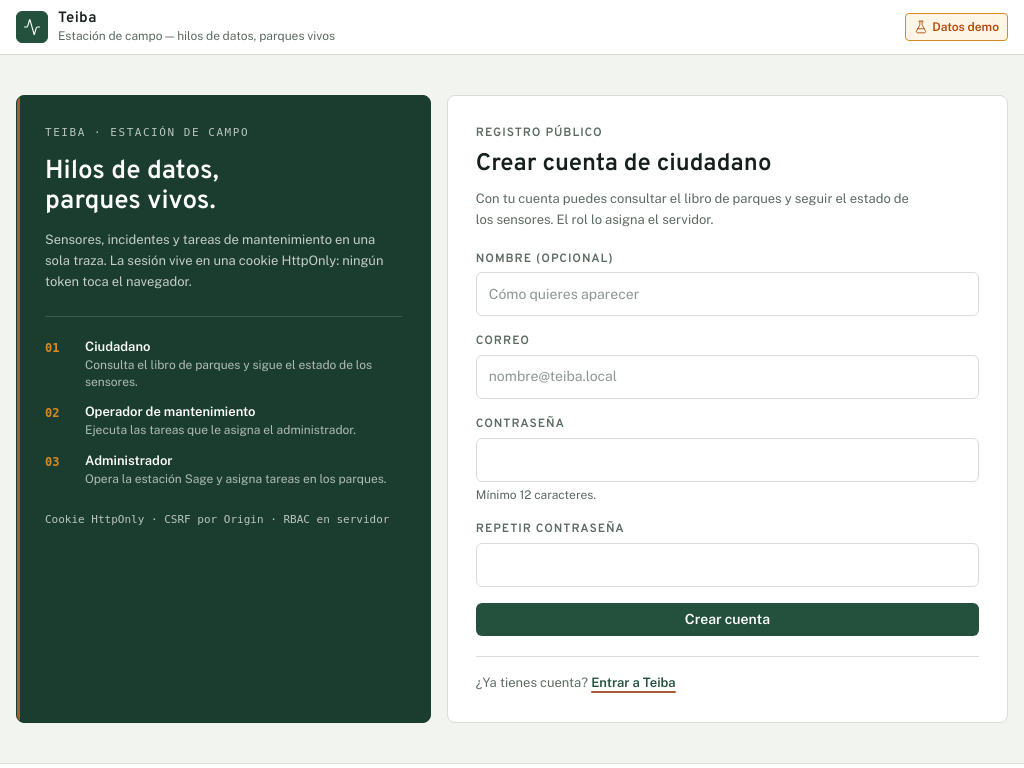
Test: RegisterView › exige que las contraseñas coincidan
Expected: the heading "Crear cuenta de ciudadano" is shown, [476,149,771,179]
Type "nueva@teiba.local" into the field labelled "Correo" at (727, 377), box [476,355,979,399]
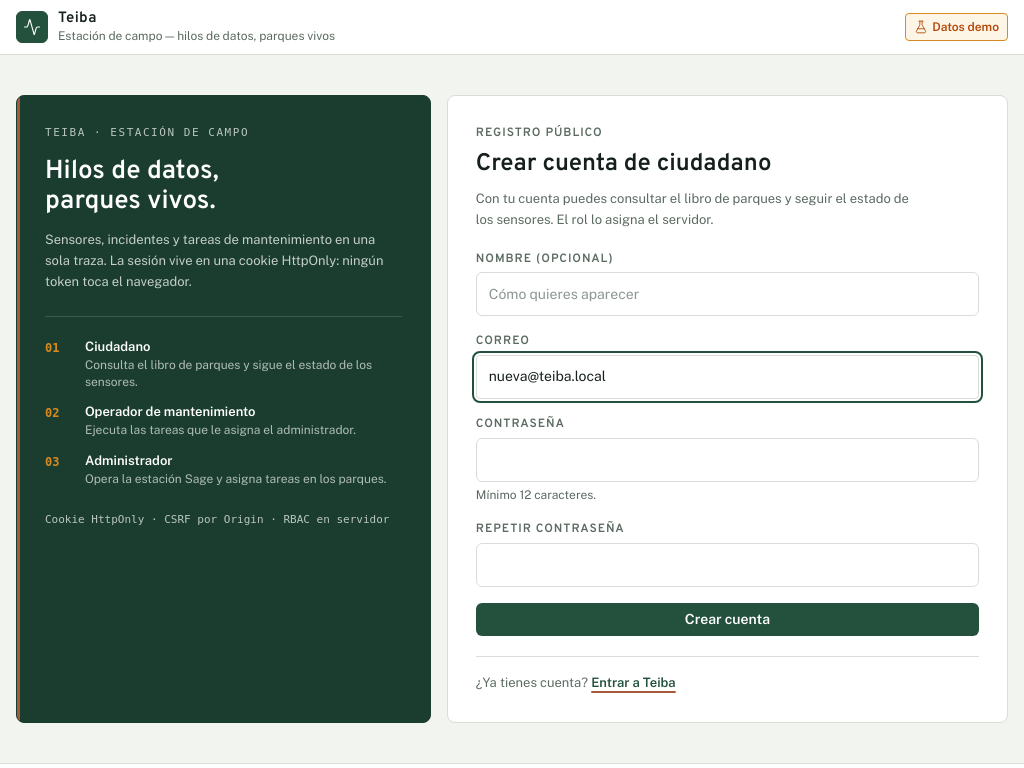
Type "clave-segura-123" into the password field labelled "Contraseña" at (727, 460), box [476,438,979,482]
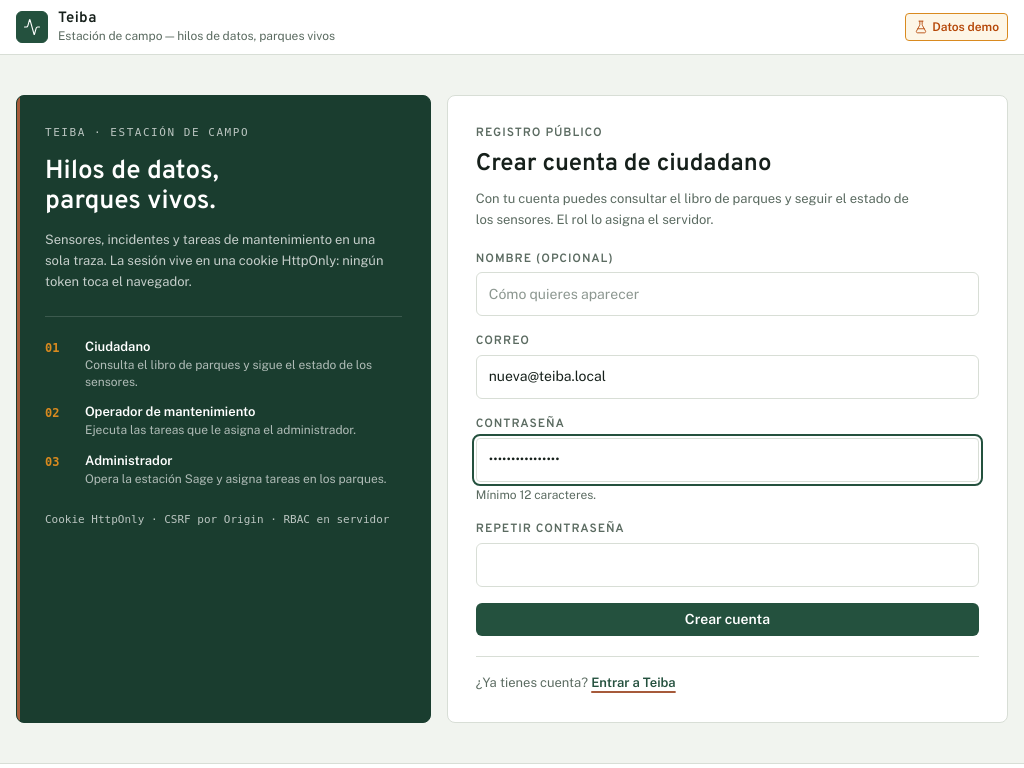
Type "otra-clave-123" into the password field labelled "Repetir contraseña" at (727, 565), box [476,543,979,587]
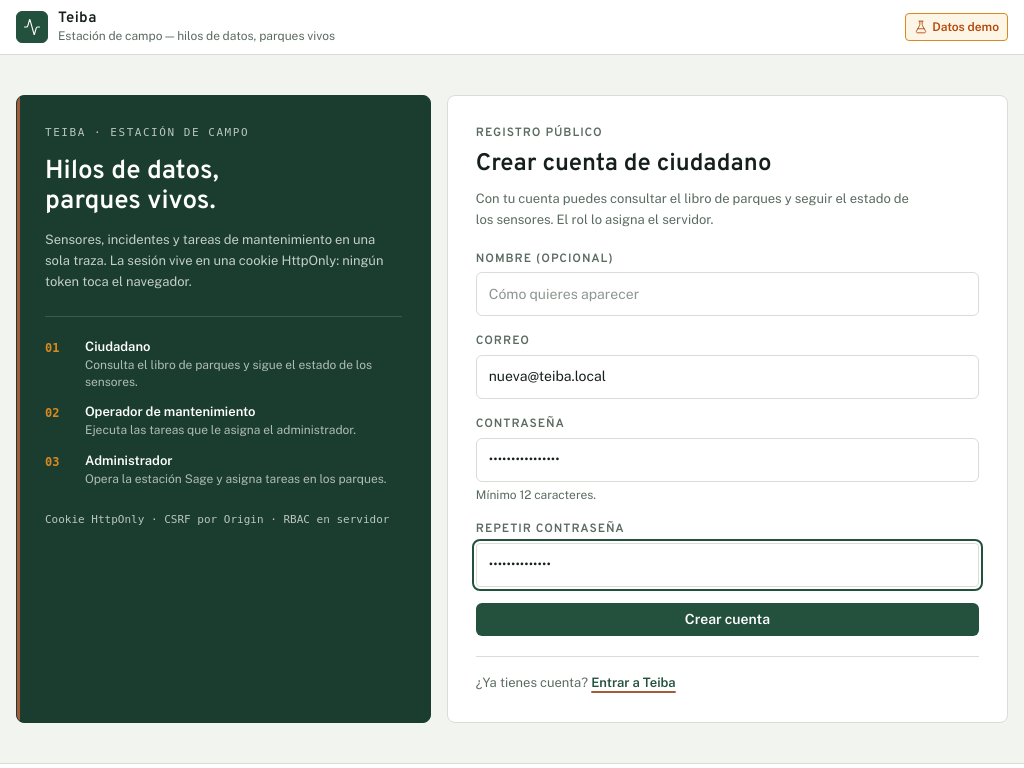
Click the button "Crear cuenta" at (727, 620), box [476,603,979,636]
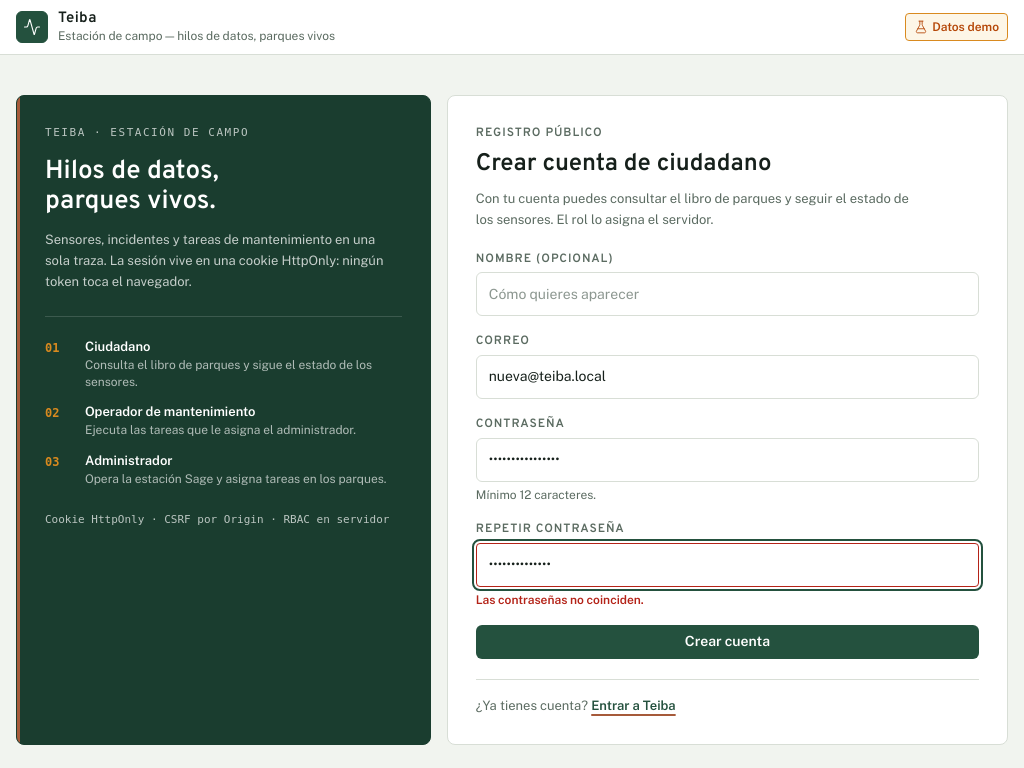
Expected: the text "Las contraseñas no coinciden." is shown, [476,593,644,607]
